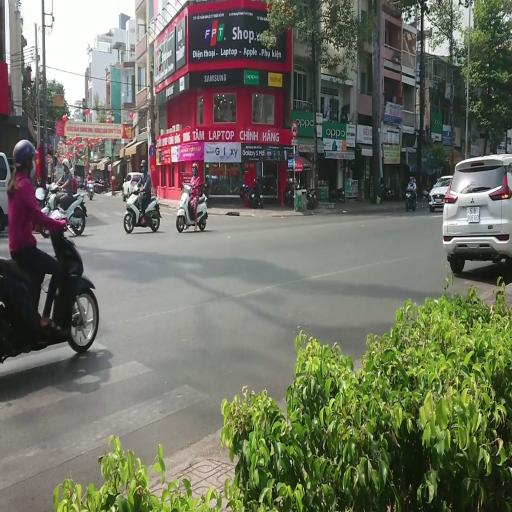bikes: (0, 212, 99, 364), (39, 184, 86, 237), (124, 185, 161, 233), (176, 180, 208, 232), (34, 183, 62, 237), (284, 178, 315, 208), (240, 177, 263, 208), (122, 172, 143, 202), (284, 177, 299, 205), (404, 186, 418, 211), (34, 186, 48, 208), (329, 187, 345, 202), (94, 177, 108, 193), (306, 187, 316, 209), (381, 184, 394, 200), (87, 180, 94, 200), (422, 188, 431, 201)
helmet: (12, 139, 36, 168), (35, 187, 45, 201), (72, 177, 78, 193), (49, 182, 58, 192), (62, 158, 69, 170), (192, 163, 198, 175), (140, 160, 146, 170), (409, 176, 414, 181), (254, 178, 258, 184), (111, 176, 115, 180), (89, 170, 91, 175)
